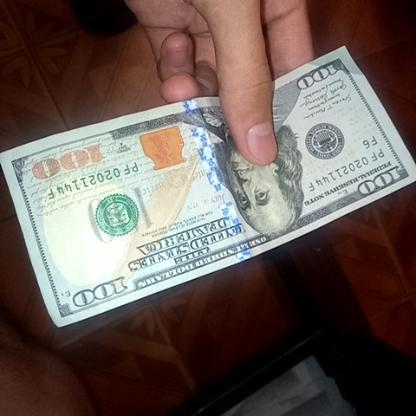one_hundred-front: (1, 44, 413, 322)
